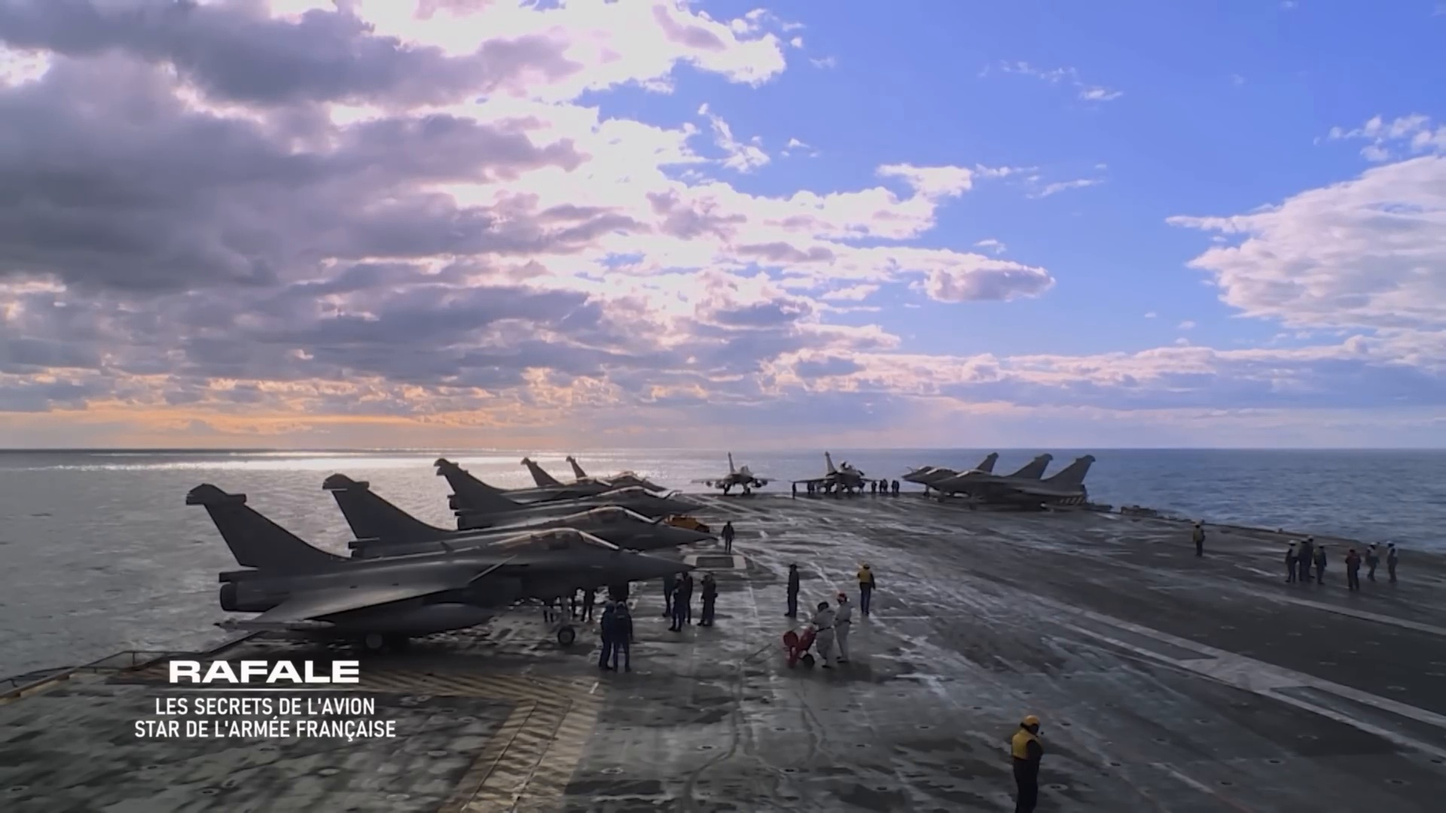Rafale: (177, 479, 704, 649), (313, 461, 725, 550), (430, 454, 708, 541), (928, 452, 1098, 512), (791, 448, 885, 498), (691, 452, 782, 498)
